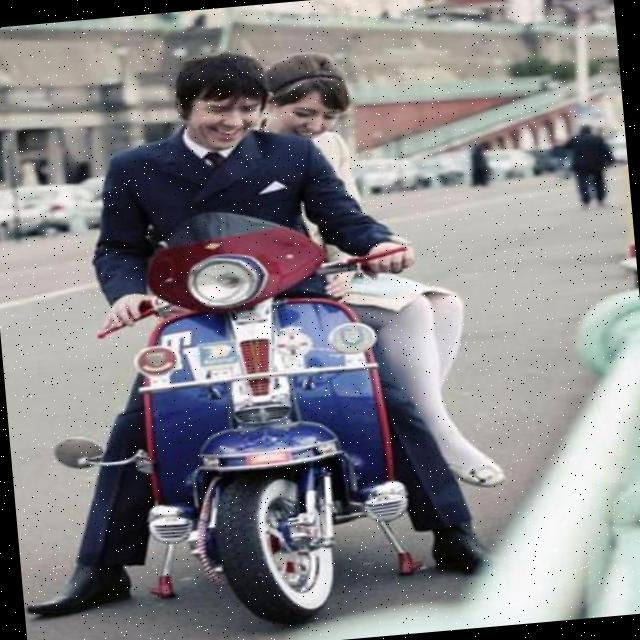No helmet: (160, 54, 280, 167)
